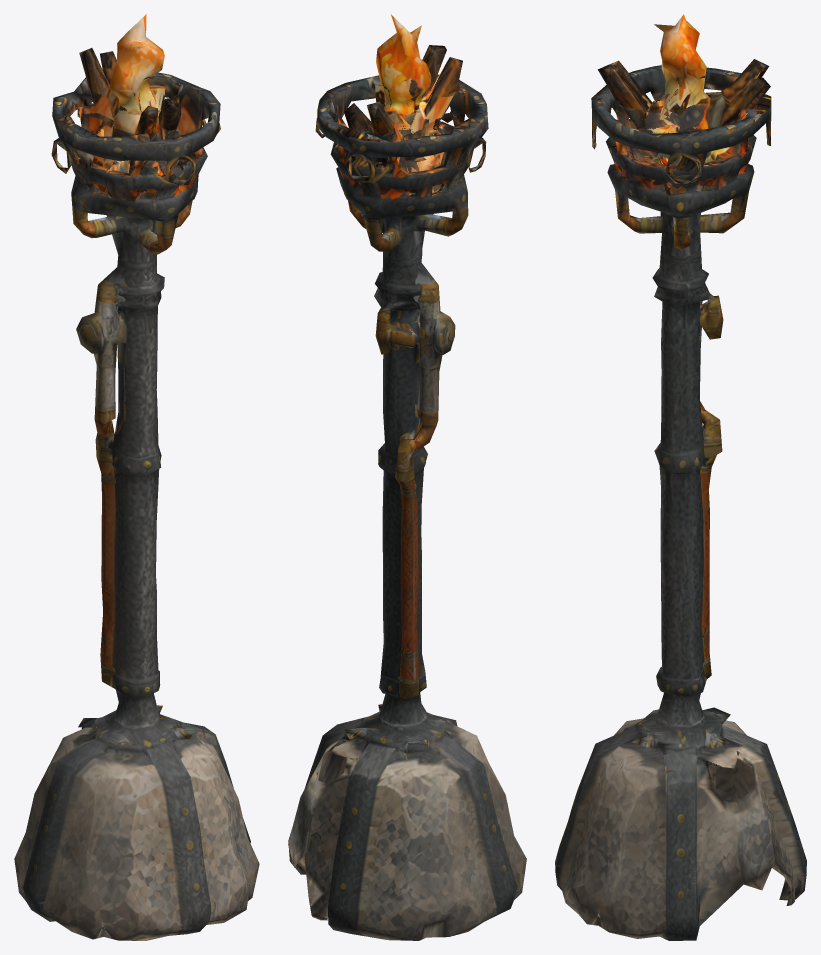
File: PR_TorchStand.fbx
3 renders of one model, left to right at view 1: azimuth 30°, elevation 25°; view 2: azimuth 150°, elevation 25°; view 3: azimuth 270°, elevation 25°, orthographic.
Parts seen in each view (by area): view 1: texture_mapping; view 2: texture_mapping; view 3: texture_mapping.
Boxes of the visible parts, box(x1,y1,x2,y2) form: texture_mapping: box(14, 14, 259, 940); texture_mapping: box(288, 14, 526, 940); texture_mapping: box(555, 14, 806, 940).
Bounding box in the file's own units: 0.2551 × 0.2544 × 0.992.
1 material, 1 textured.
